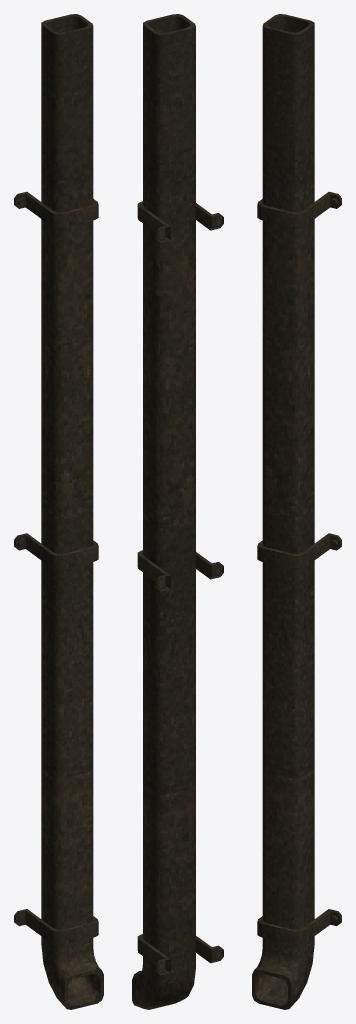
The model's file is rainwater_downpipe_hl_1_end.glb.
3 views of the same model, side by side, from view 1: azimuth 30°, elevation 25°; view 2: azimuth 210°, elevation 25°; view 3: azimuth 330°, elevation 25° (orthographic). The views are drawn at different scales.
Visible parts, largest first — view 1: rainwater_downpipe_hl_1_end; view 2: rainwater_downpipe_hl_1_end; view 3: rainwater_downpipe_hl_1_end.
Boxes of the visible parts, x1,y1,x2,y2 form: rainwater_downpipe_hl_1_end: (14, 14, 103, 1009); rainwater_downpipe_hl_1_end: (132, 14, 223, 1009); rainwater_downpipe_hl_1_end: (252, 14, 341, 1009).
Size of the model in its own units: 0.2 by 2.84 by 0.2.
Materials: 1 (1 with a texture image).
